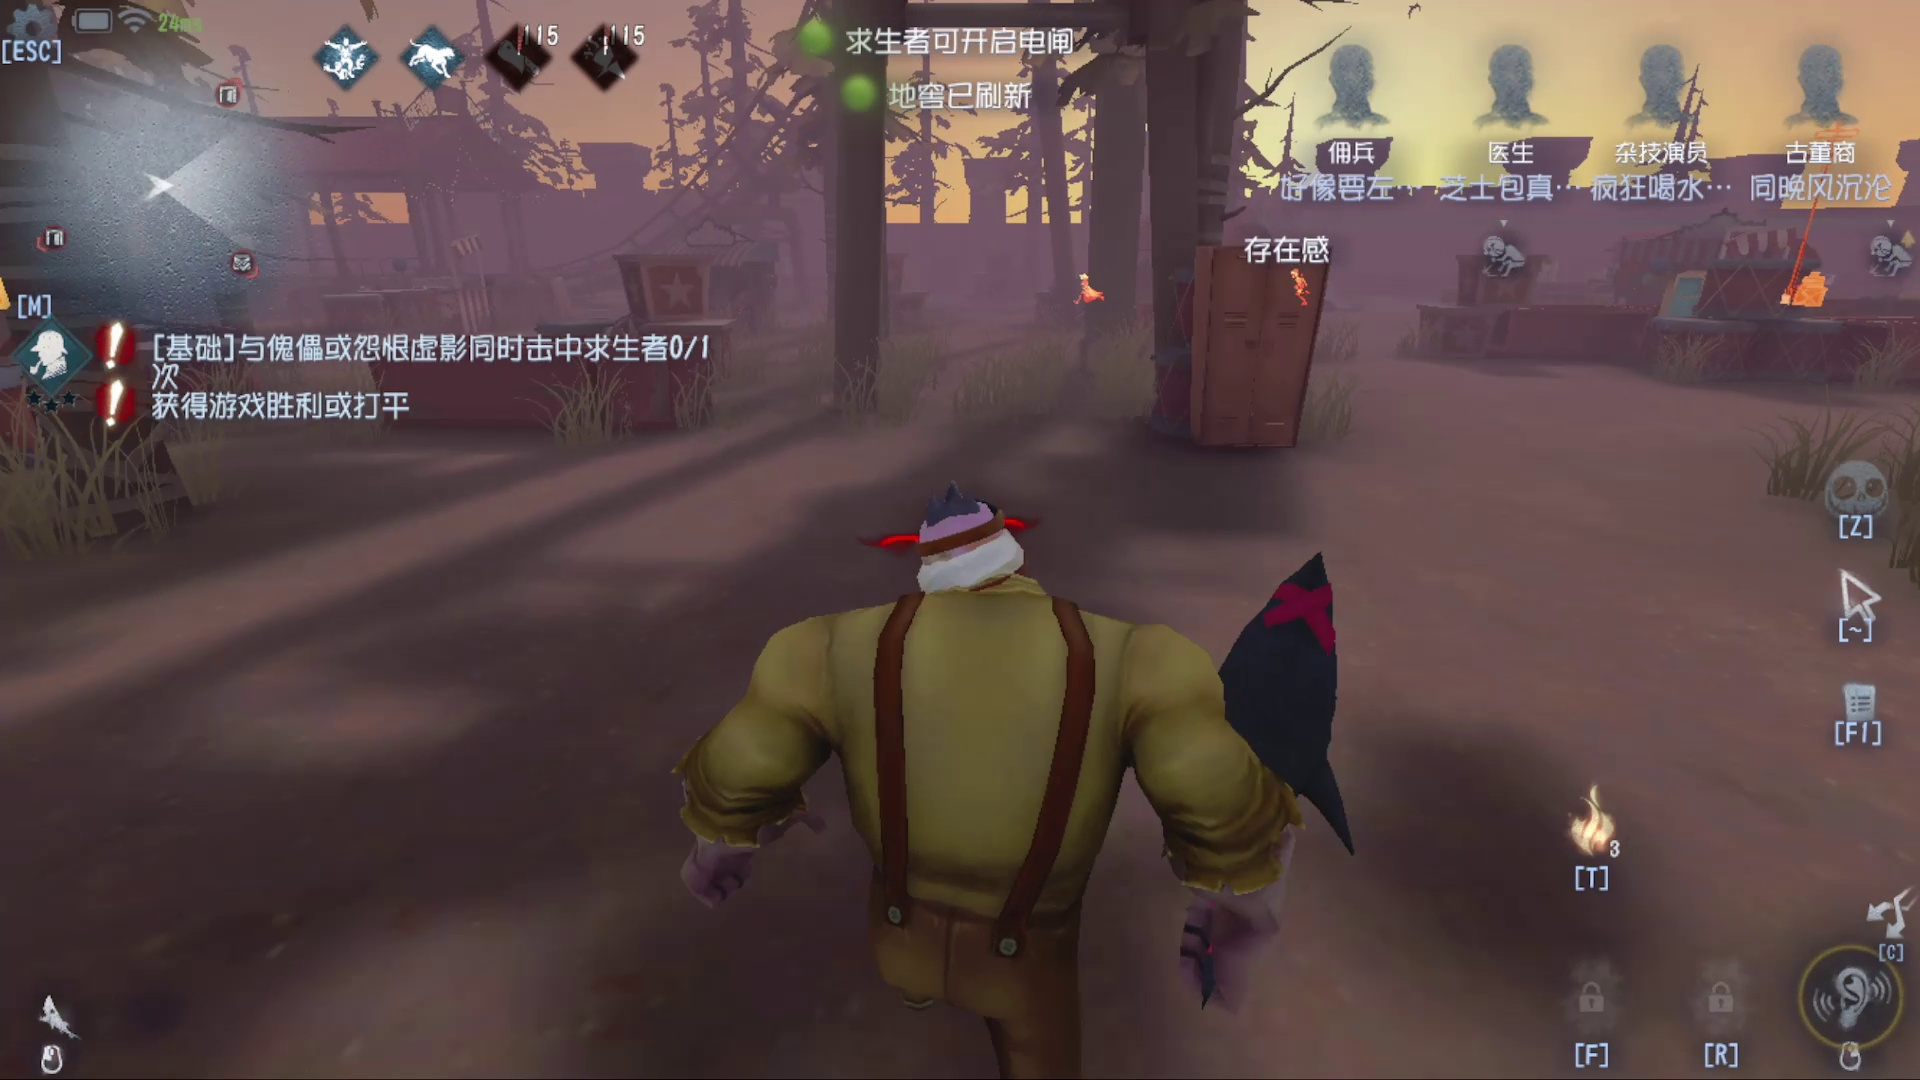木板: (1662, 256, 1720, 331)
求生者: (1068, 258, 1116, 314), (1276, 266, 1323, 320)
